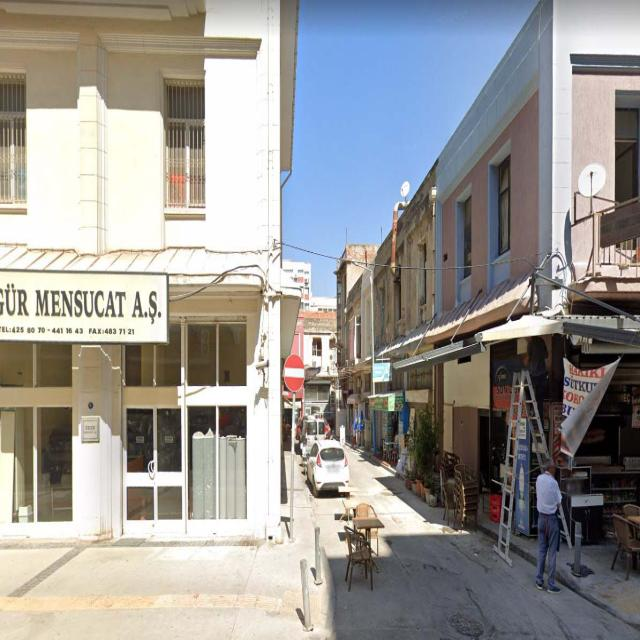girisyok: (284, 353, 306, 392)
